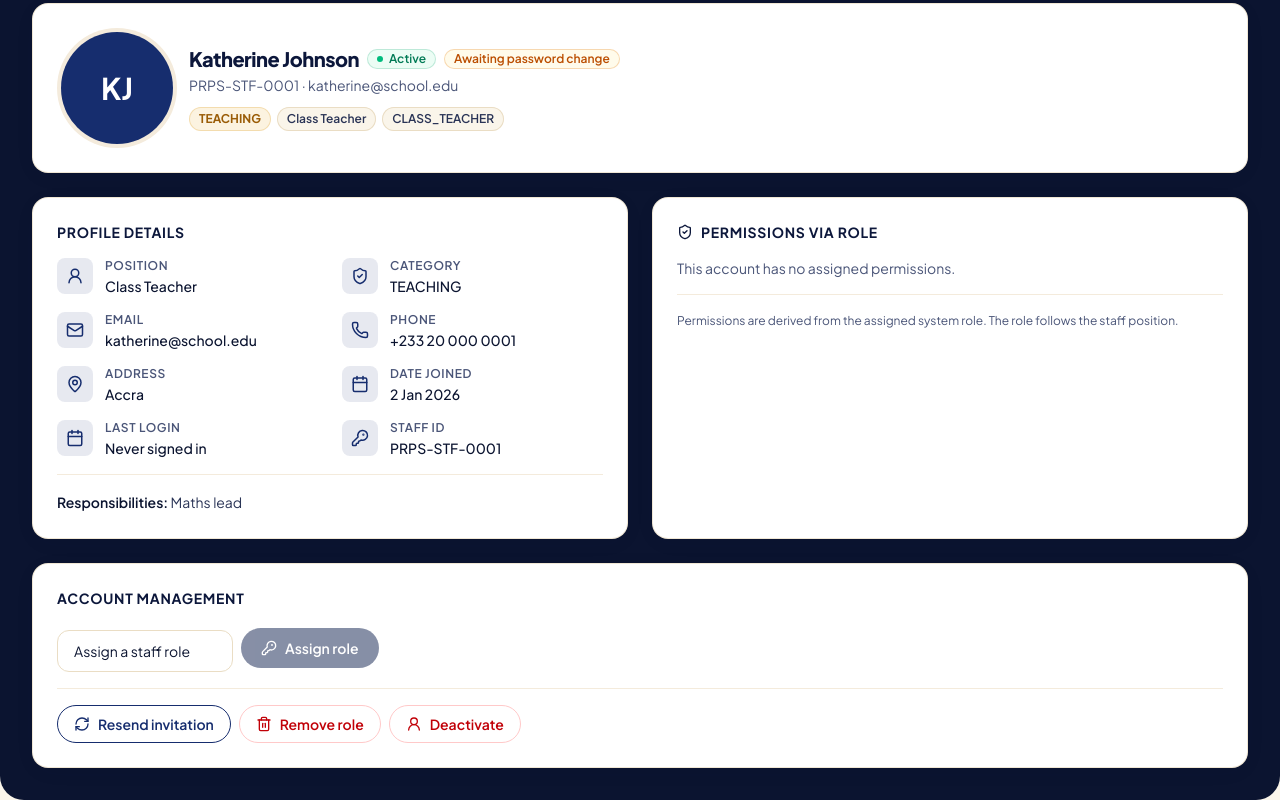
it: StaffProfilePage › deactivates a staff account through the confirmation dialog
The image size is (1280, 800).
(page scrolled)
Expected: the text "Katherine Johnson" is shown, [189,45,359,73]
Click the button "Deactivate": (455, 724) [389,704,521,742]
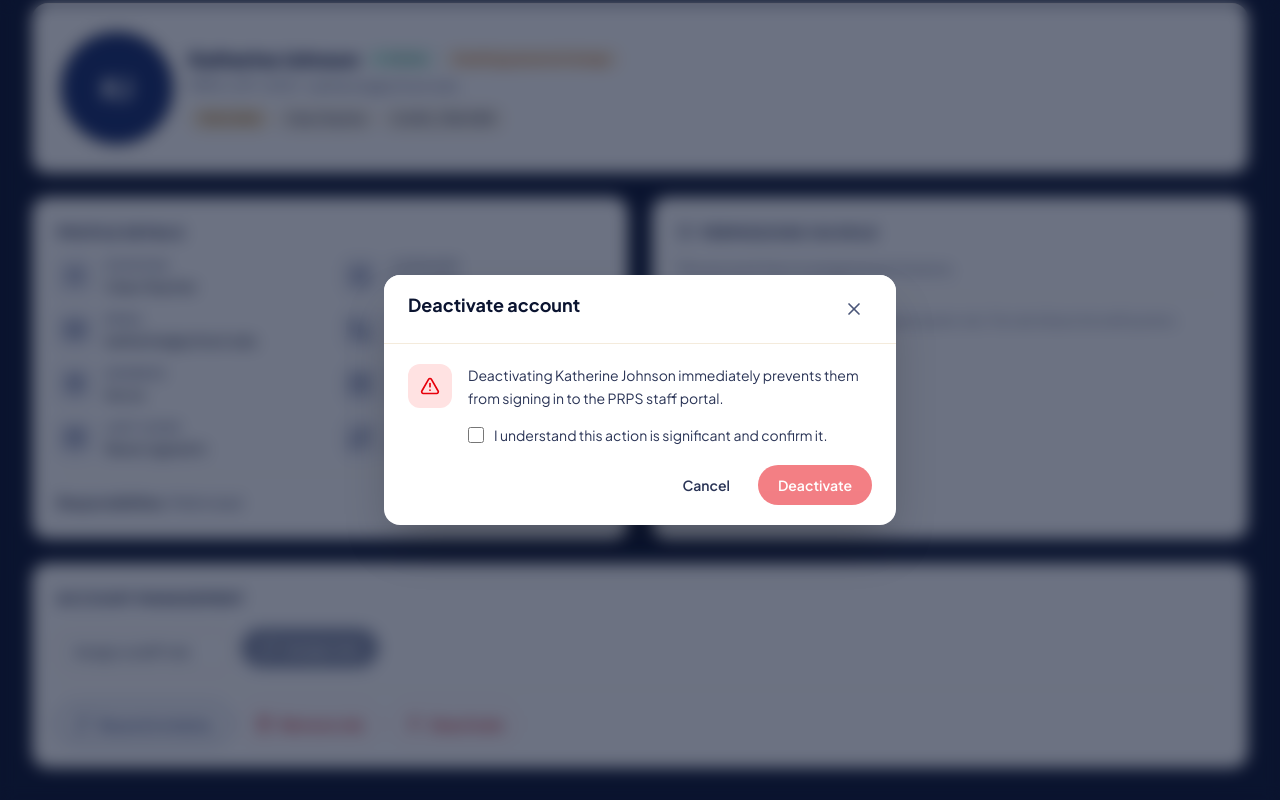
Click the checkbox labelled "I understand this action is significant and confirm it.": (476, 435) [468,427,484,443]
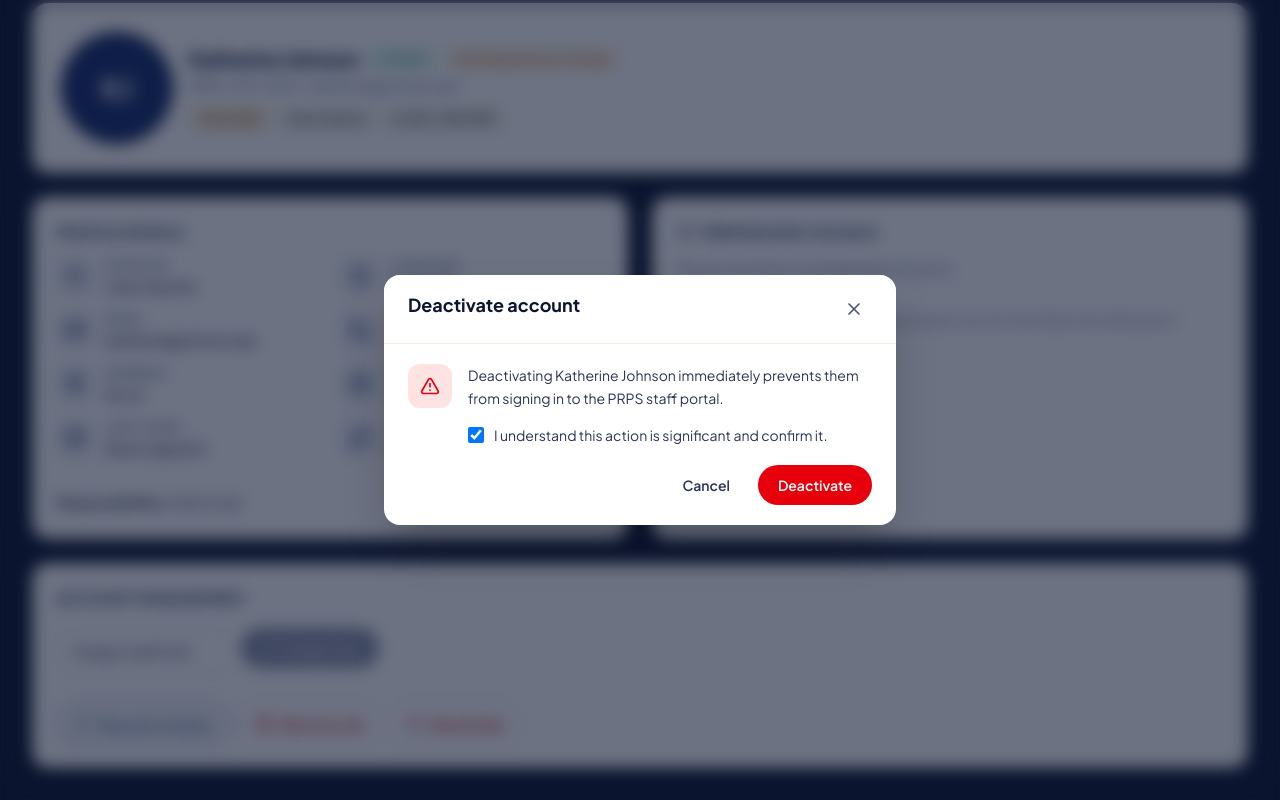
Click the button "Deactivate": (815, 485) [758,465,872,505]
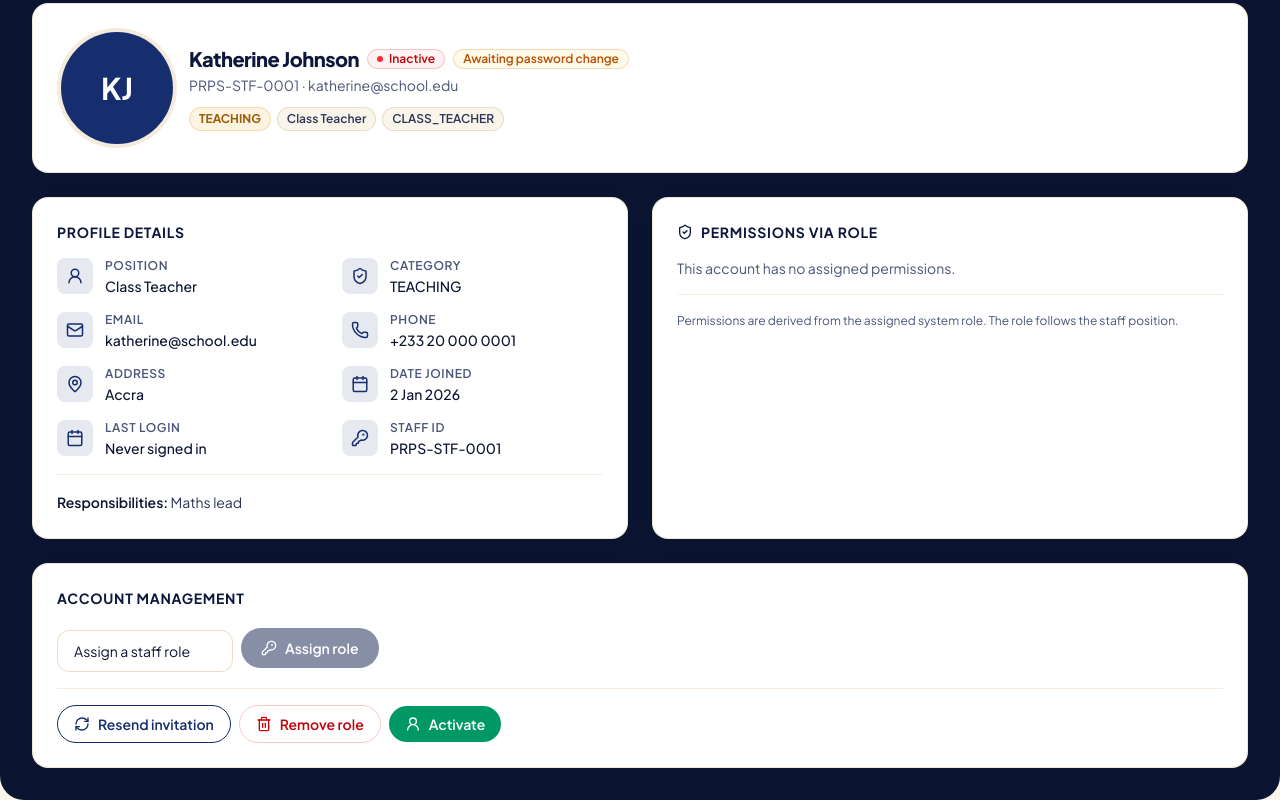
Expected: the text "Inactive" is shown, [367,49,445,69]
